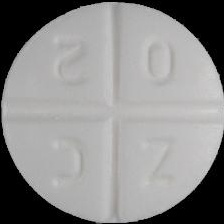51655-114: (0, 0, 224, 224)
